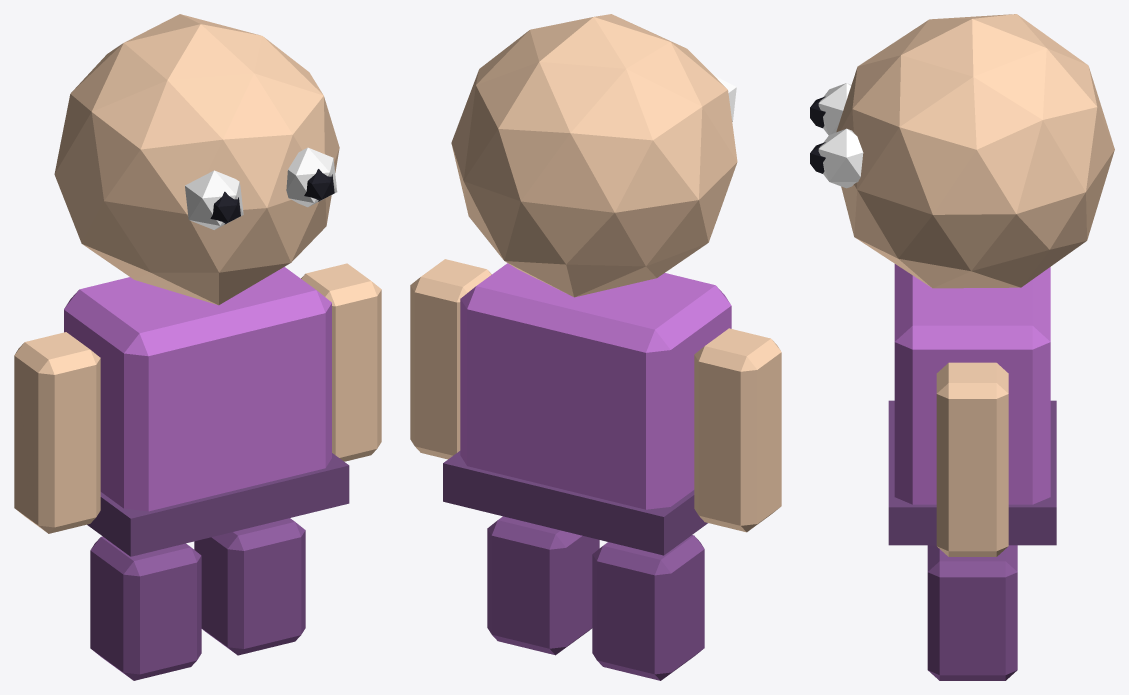
The model's file is HypnoThug.fbx.
3 renders of one model, left to right at view 1: azimuth 30°, elevation 25°; view 2: azimuth 150°, elevation 25°; view 3: azimuth 270°, elevation 25°, orthographic.
Visible parts, largest first — view 1: HypnoThug; view 2: HypnoThug; view 3: HypnoThug.
Boxes of the visible parts, <box> form: HypnoThug: <box>14,14,381,680</box>; HypnoThug: <box>410,14,781,680</box>; HypnoThug: <box>810,14,1114,680</box>.
Bounding box in the file's own units: 3.63 × 6.31 × 2.79.
Materials: 1 (1 with a texture image).
